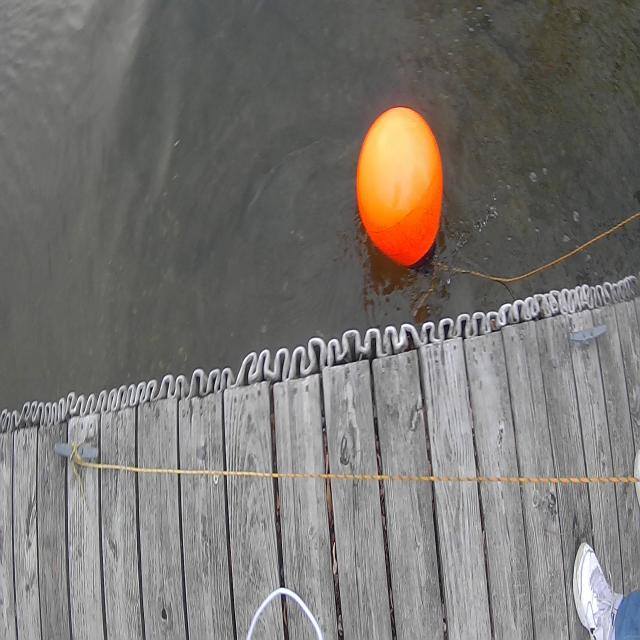Buoy: (351, 90, 448, 278)
